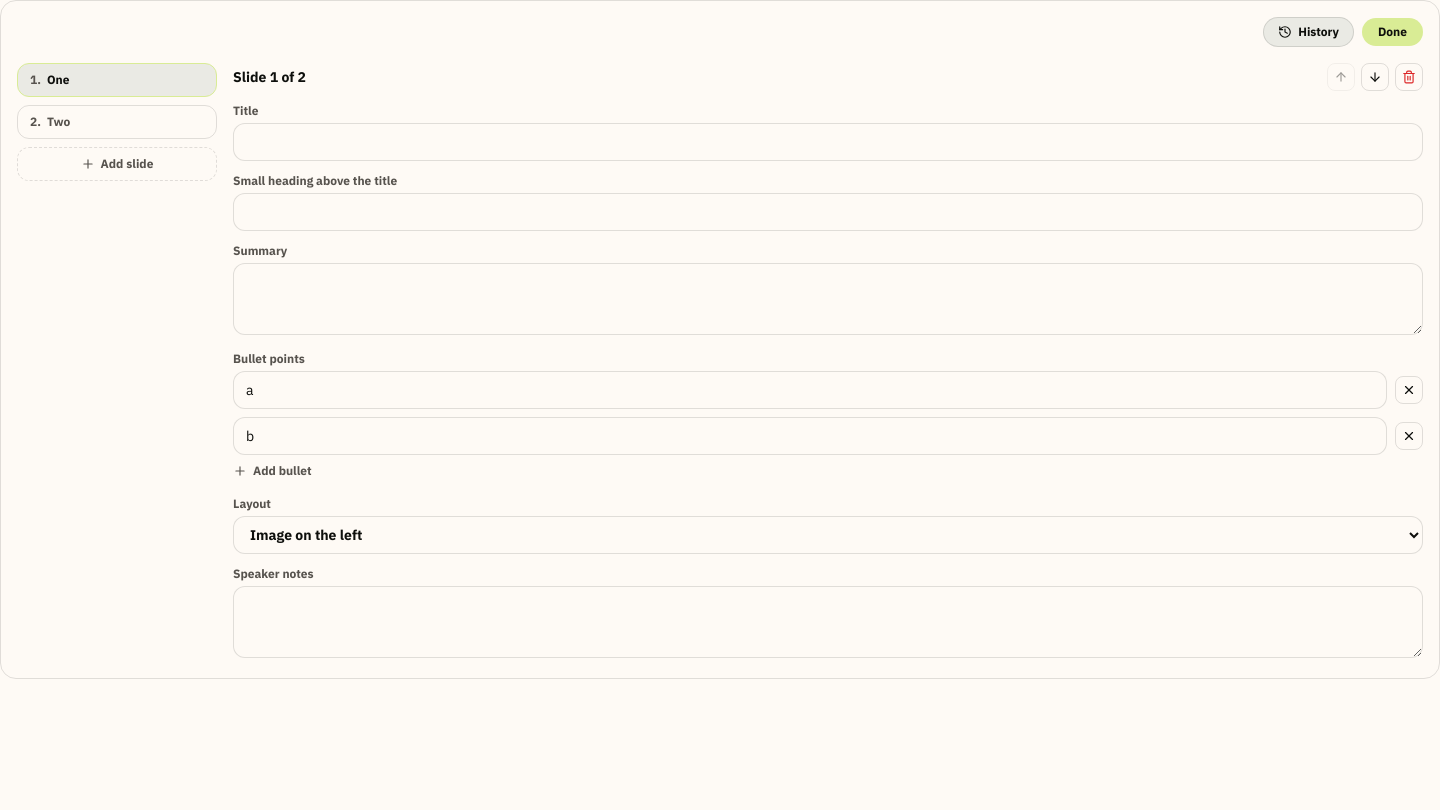
Test: SlidesEditor › does not save a slide without a title, and says why
Later steps or results of the test are not shown.
Clear the field labelled "Title": (828, 142) [233,123,1423,161]
Wait 2000 ms
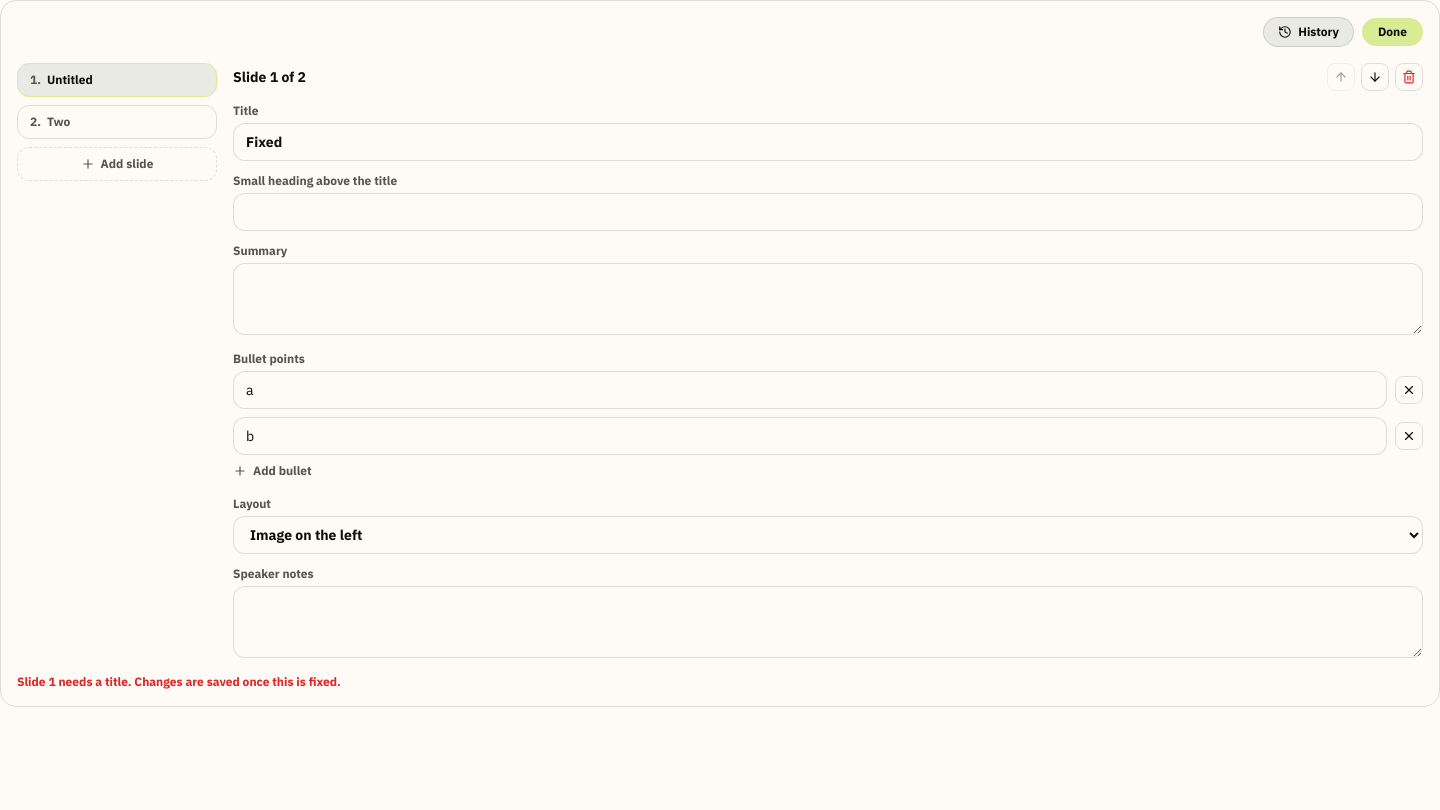
Expected: the text "Slide 1 needs a title." is shown, [17,674,132,689]
